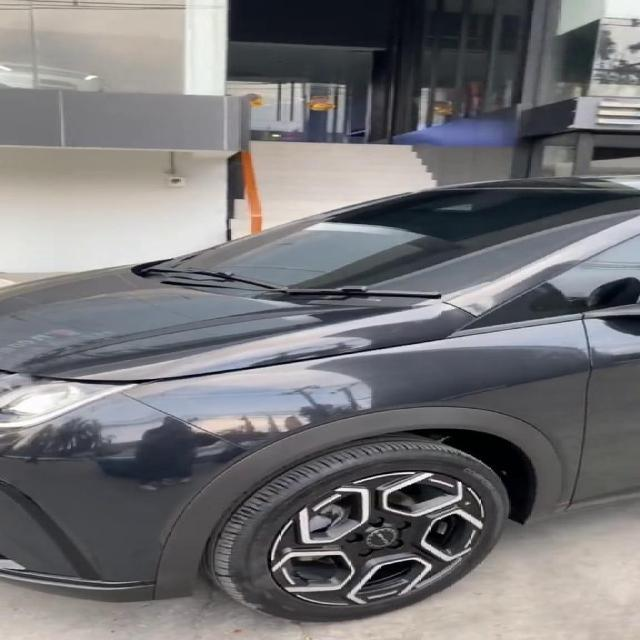Hatchback: (0, 178, 639, 621)
